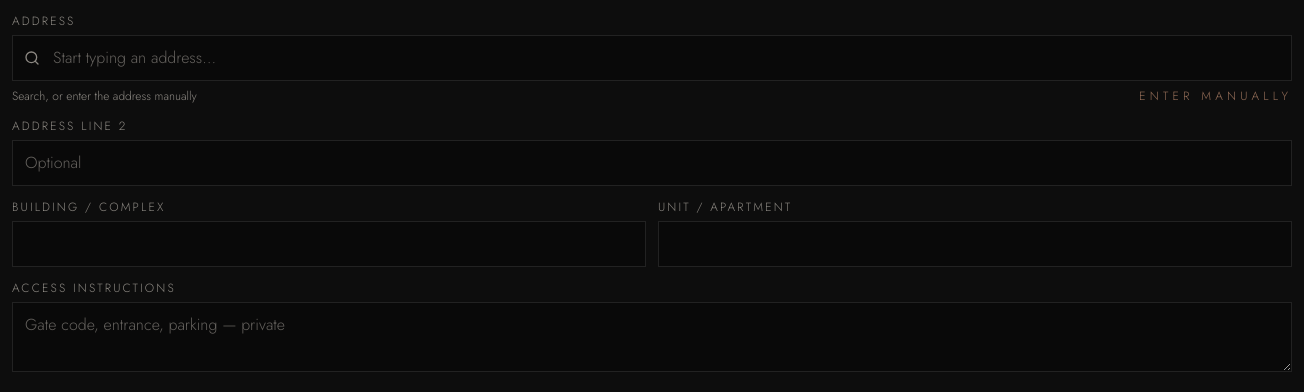
it: AddressAutocomplete › clears everything on reset
Type "10 Main" into the dropdown at (652, 58), box [12,35,1292,81]
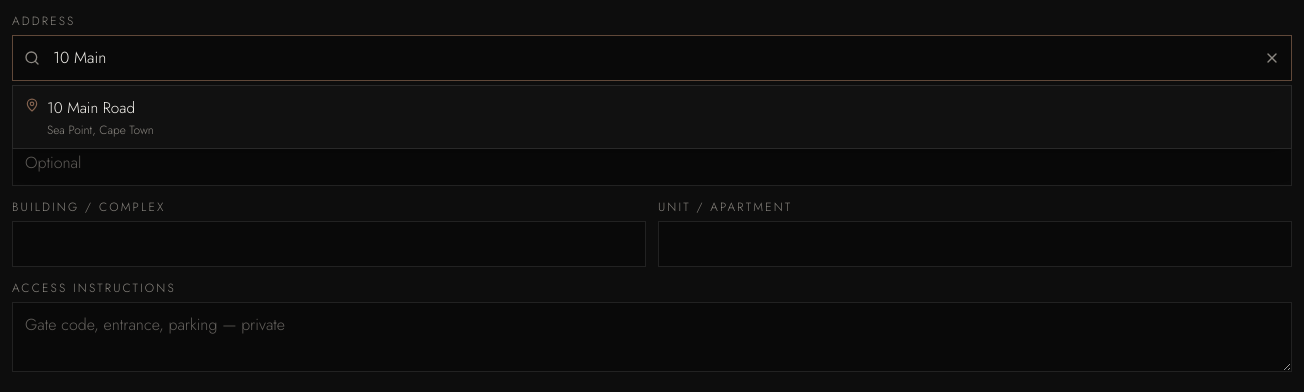
Click the option "10 Main Road Sea Point, Cape Town" at (89, 118), box [25,97,154,138]
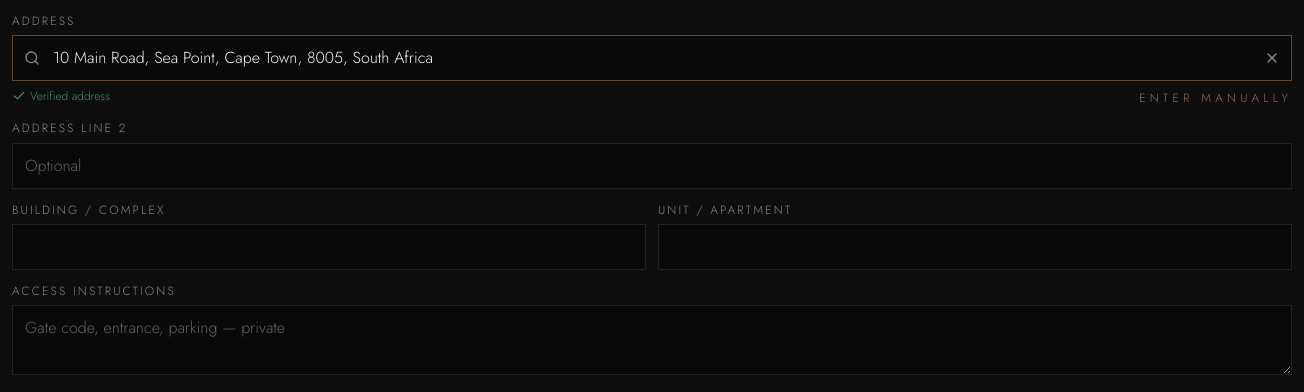
Now the text "Verified address" is shown, box [12,87,110,105]
Click the button named "clear address" at (1278, 58), box [1264,35,1292,81]
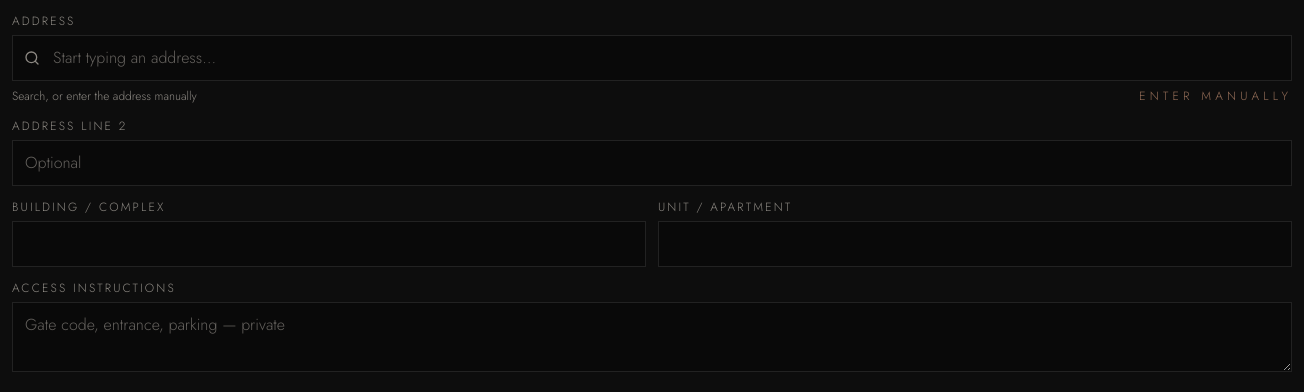
Now the dropdown is empty, box [12,35,1292,81]
